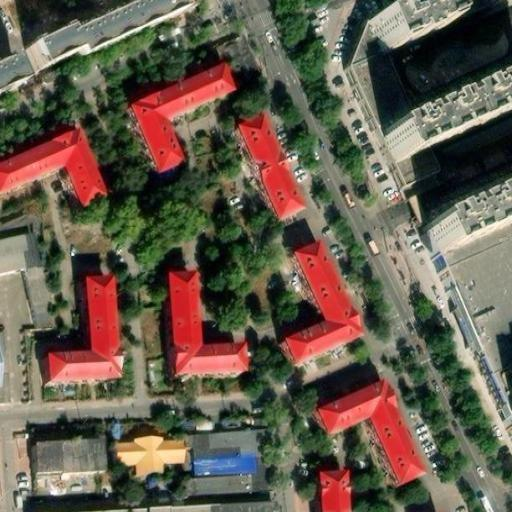building: (433, 226, 512, 416), (378, 67, 512, 158), (313, 389, 423, 497), (123, 76, 229, 182), (278, 251, 360, 378), (344, 0, 409, 126), (166, 282, 242, 387), (42, 290, 117, 396), (231, 122, 301, 229), (417, 188, 512, 262), (179, 435, 266, 489), (28, 441, 103, 501), (19, 264, 64, 327), (108, 440, 180, 479), (218, 32, 256, 80), (162, 496, 275, 512), (313, 483, 344, 512)
